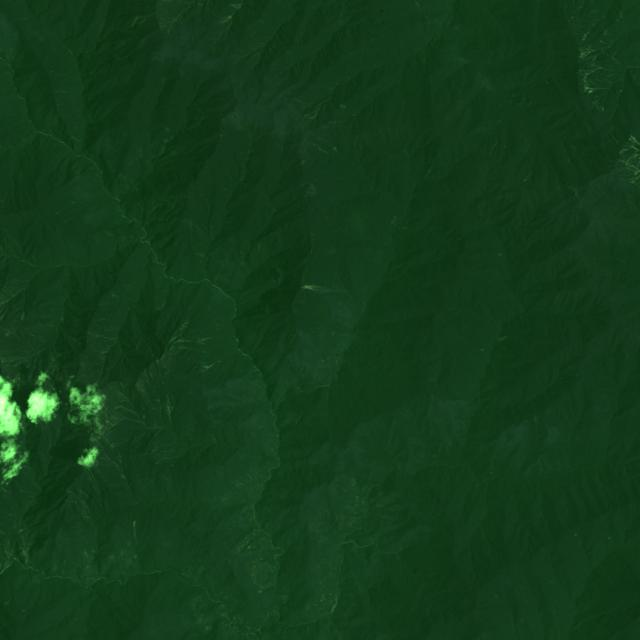landslides: (581, 16, 605, 42), (301, 285, 347, 295), (583, 67, 609, 83), (89, 330, 116, 341), (563, 185, 580, 198), (579, 47, 599, 58), (115, 406, 137, 416), (166, 396, 173, 425), (488, 140, 499, 157), (626, 153, 640, 166), (619, 146, 640, 154), (313, 143, 328, 153), (588, 87, 609, 94), (88, 383, 97, 399), (133, 520, 138, 547), (629, 135, 640, 146), (128, 17, 138, 29), (142, 13, 154, 23), (523, 170, 532, 183), (0, 485, 11, 495), (197, 337, 212, 344), (219, 16, 232, 24), (309, 109, 319, 119)
